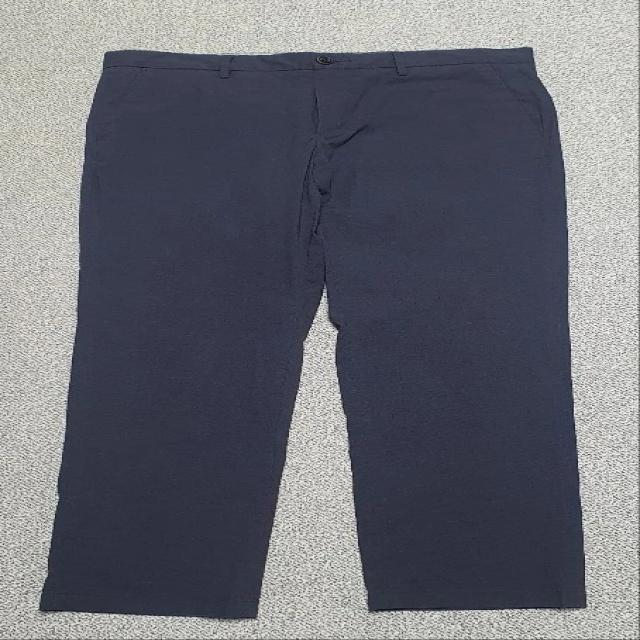long-pants: (34, 43, 588, 621)
